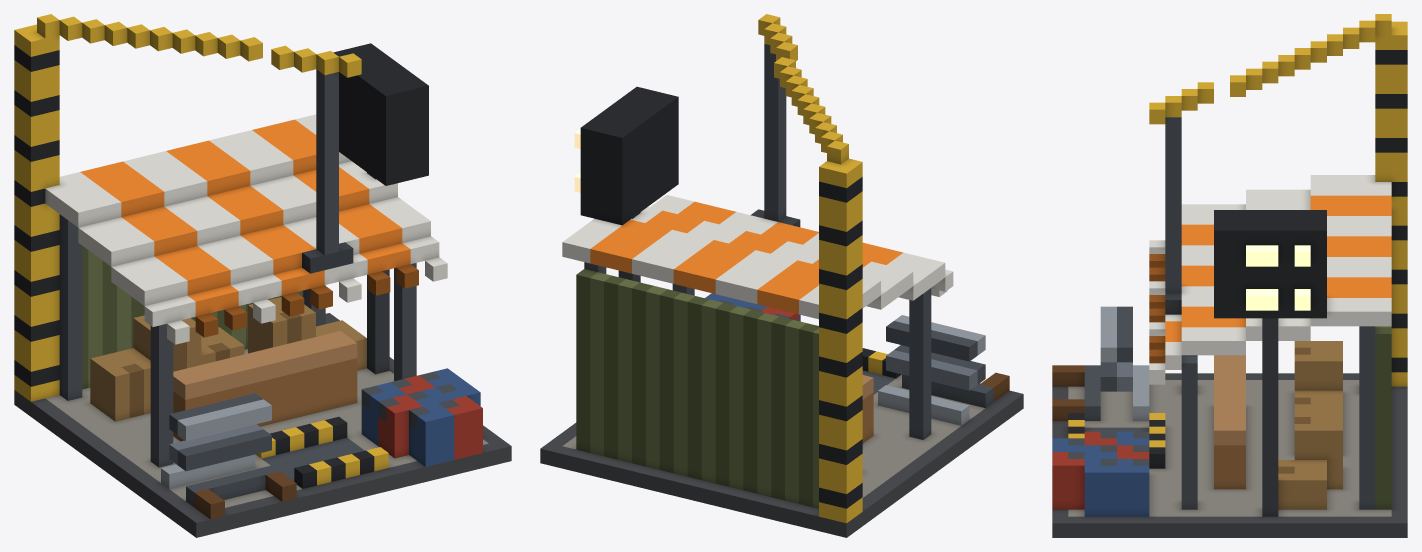
Rendered from cm_market_5.glb.
The picture shows the model from 3 angles, left to right: view 1: azimuth 30°, elevation 25°; view 2: azimuth 150°, elevation 25°; view 3: azimuth 270°, elevation 25°; orthographic projection. The views are drawn at different scales.
Visible parts, largest first — view 1: cm_market_5_body; view 2: cm_market_5_body; view 3: cm_market_5_body.
Part boxes in pixels (left/top/right/bottom): cm_market_5_body: left=14, top=14, right=511, bottom=537; cm_market_5_body: left=540, top=14, right=1023, bottom=537; cm_market_5_body: left=1052, top=14, right=1407, bottom=537.
Bounding box in the file's own units: 1.44 × 1.62 × 1.38.
Materials: 1 (1 with a texture image).
